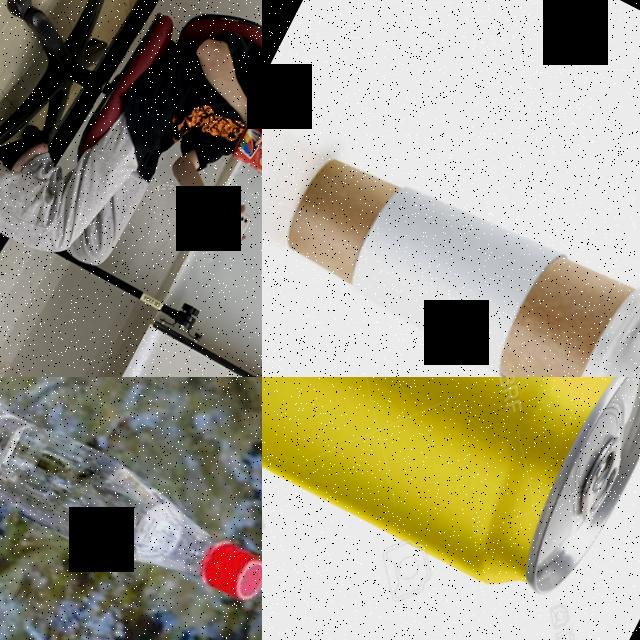bottle: (0, 377, 262, 628)
can: (262, 377, 640, 627)
cup: (263, 126, 640, 377)
